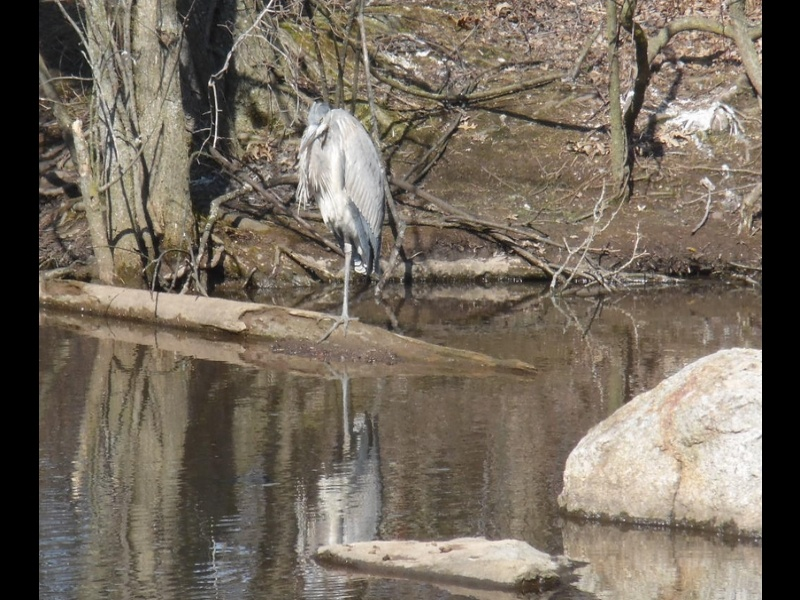heron: (294, 103, 386, 332)
